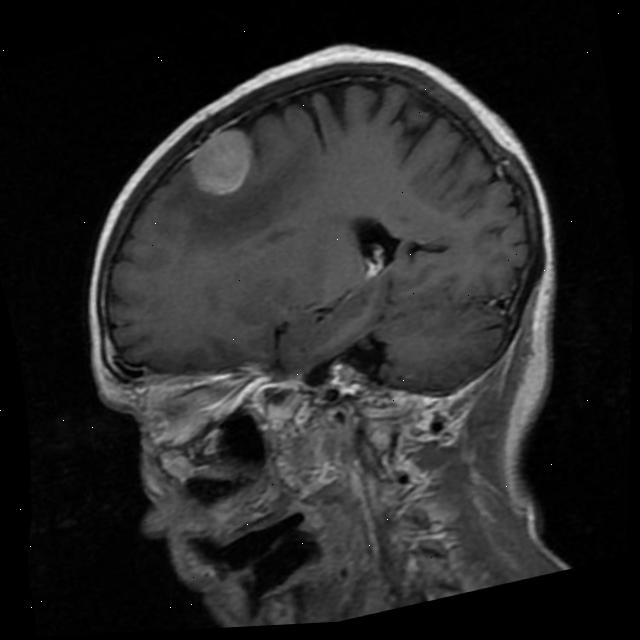Meningioma: (183, 123, 259, 201)
